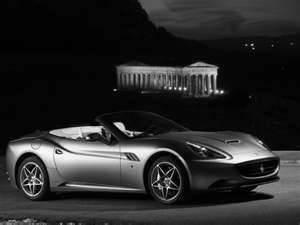car: (8, 107, 283, 208)
